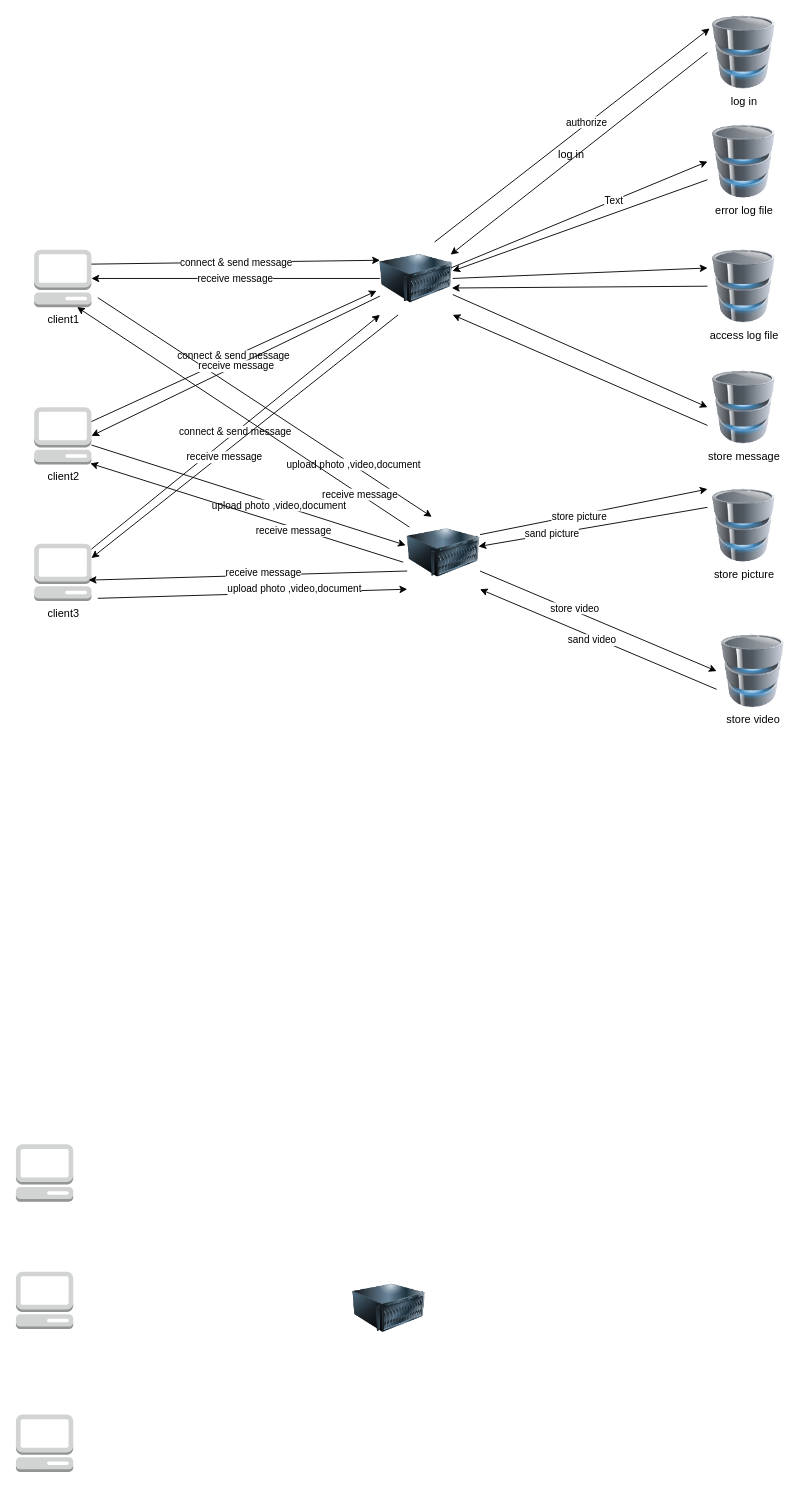
Image size: 805x1488. Some labels were removed from this diagram. The centre of each missing label's shape, as x and y in pixels:
message server: the point at 415,278
photo server: the point at 443,552
